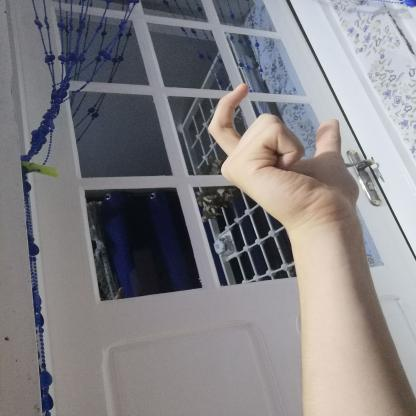NOON: (192, 74, 378, 244)
